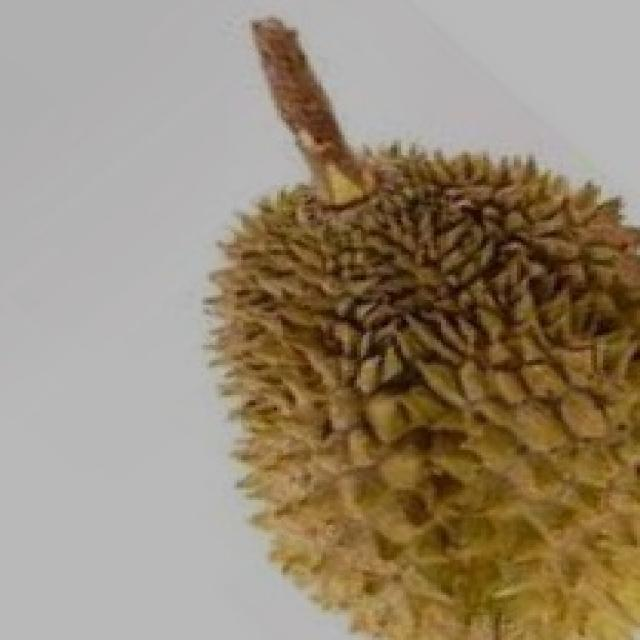fruit: (181, 287, 584, 640)
